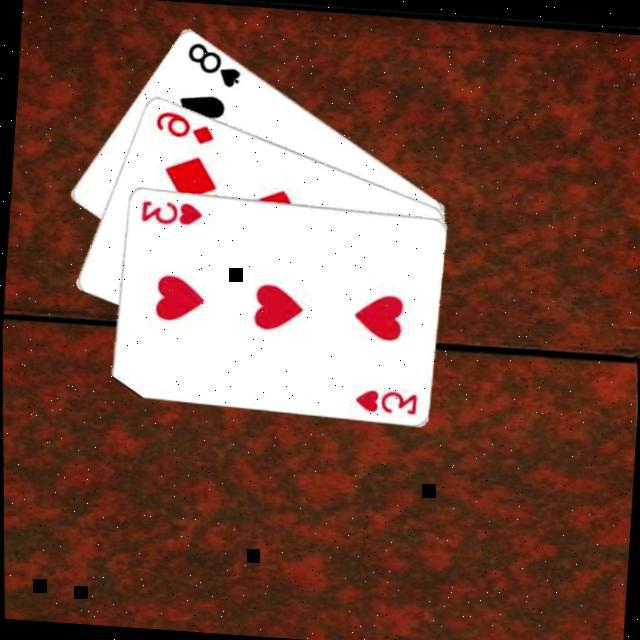3H: (134, 195, 202, 228), (348, 383, 416, 416)
6D: (149, 106, 215, 146)
8S: (179, 37, 242, 89)
